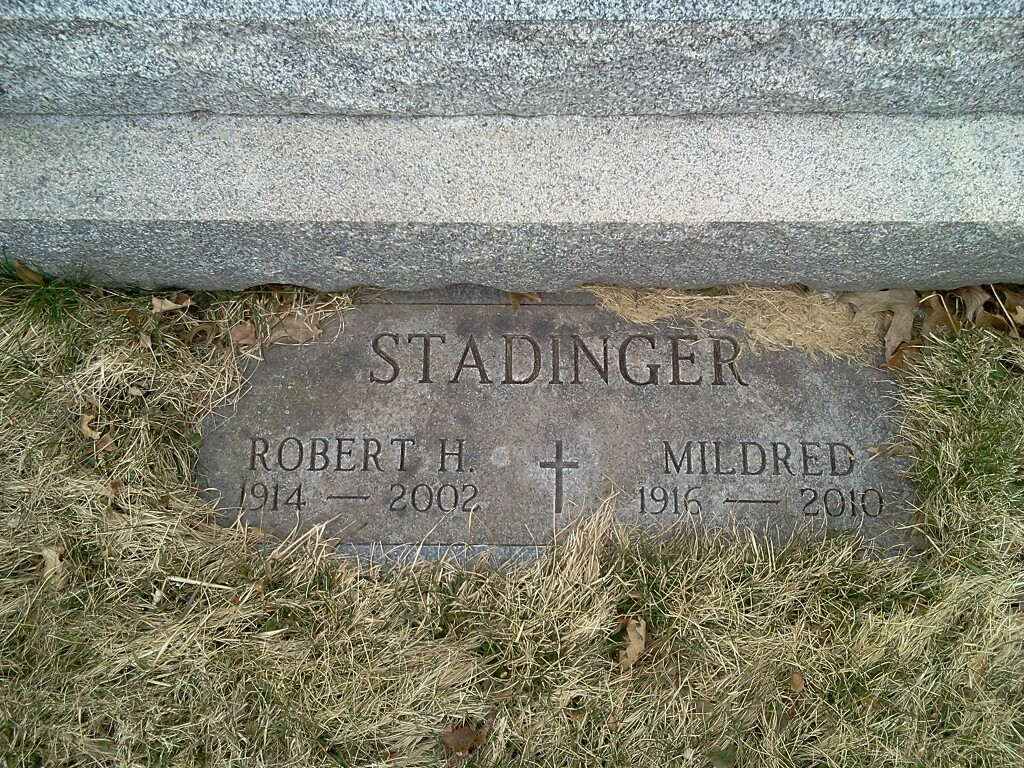flat: (179, 283, 954, 581)
